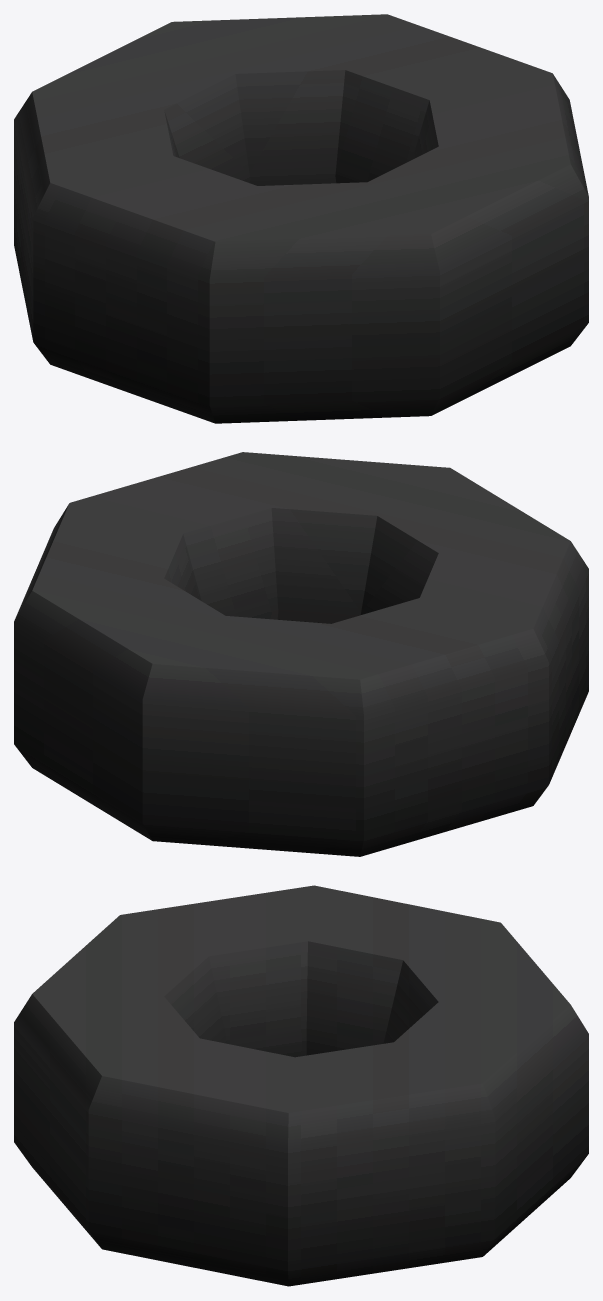
The model's file is Tire.obj.
3 views of the same model, one above another, from view 1: azimuth 30°, elevation 25°; view 2: azimuth 150°, elevation 25°; view 3: azimuth 270°, elevation 25° (orthographic). The views are drawn at different scales.
Visible parts, largest first — view 1: Tire1; view 2: Tire1; view 3: Tire1.
Boxes of the visible parts, x1,y1,x2,y2 form: Tire1: (14,14,588,423); Tire1: (14,452,588,856); Tire1: (14,885,588,1286).
Size of the model in its own units: 2.9 by 0.9651 by 2.9.
1 material, 1 textured.
